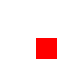square: (36, 38, 56, 58)
